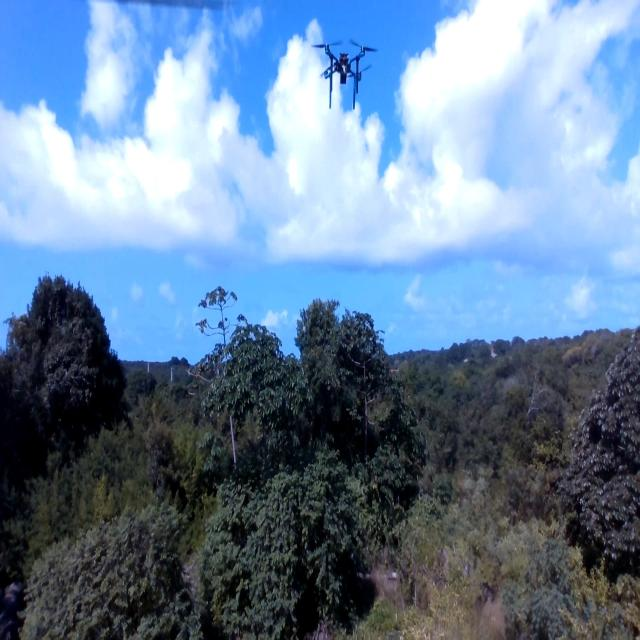-uav-: (309, 28, 380, 119)
